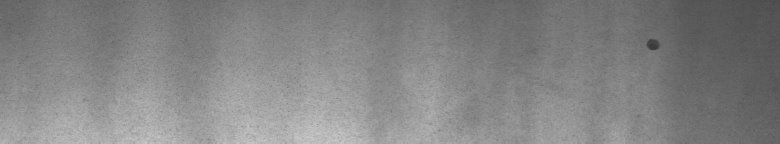fi: (643, 32, 664, 56)
